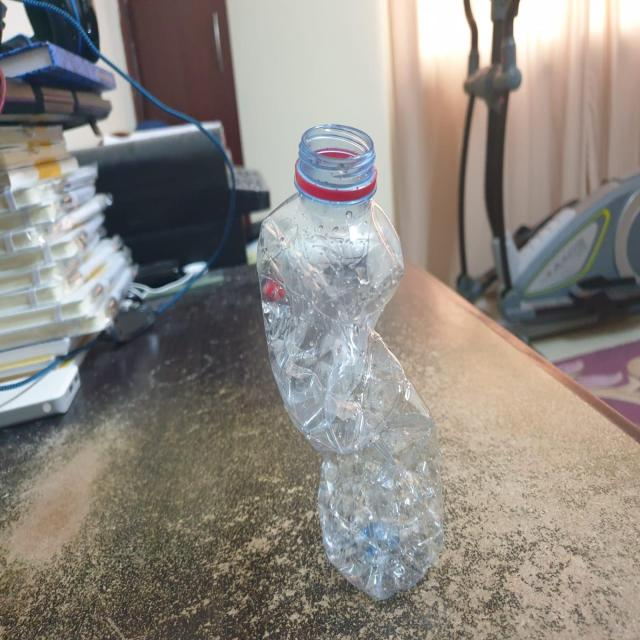bottle: (258, 118, 447, 603)
